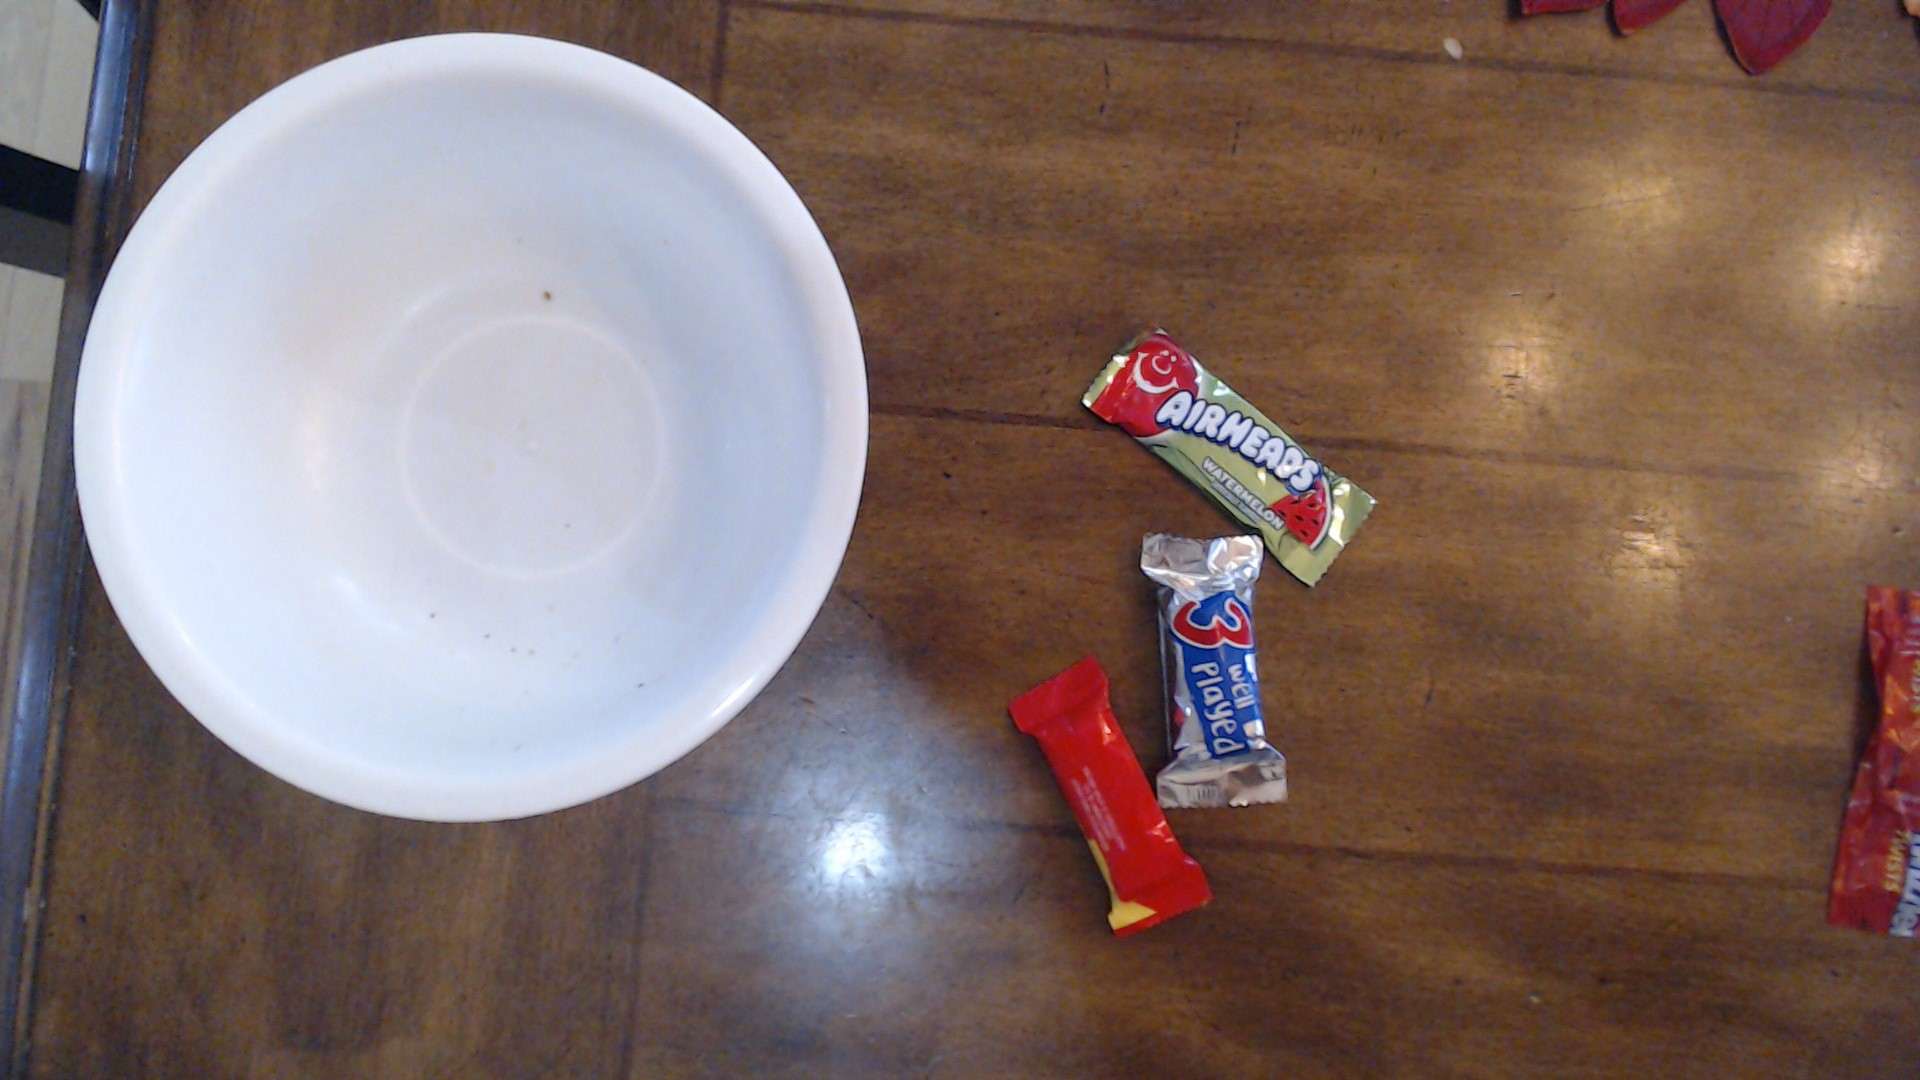airheads: (1029, 328, 1420, 587), (960, 653, 1241, 968)
three_musketeers: (1117, 517, 1298, 829)
